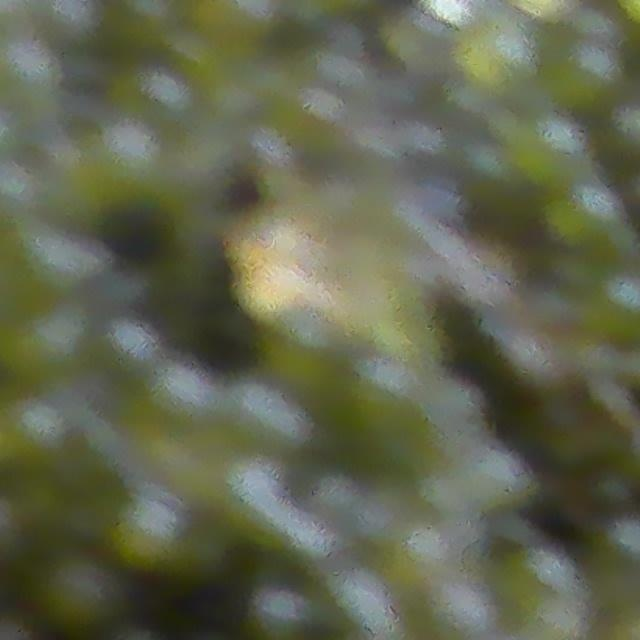SeaGrape: (39, 552, 120, 633), (457, 19, 538, 97), (112, 495, 181, 570)
